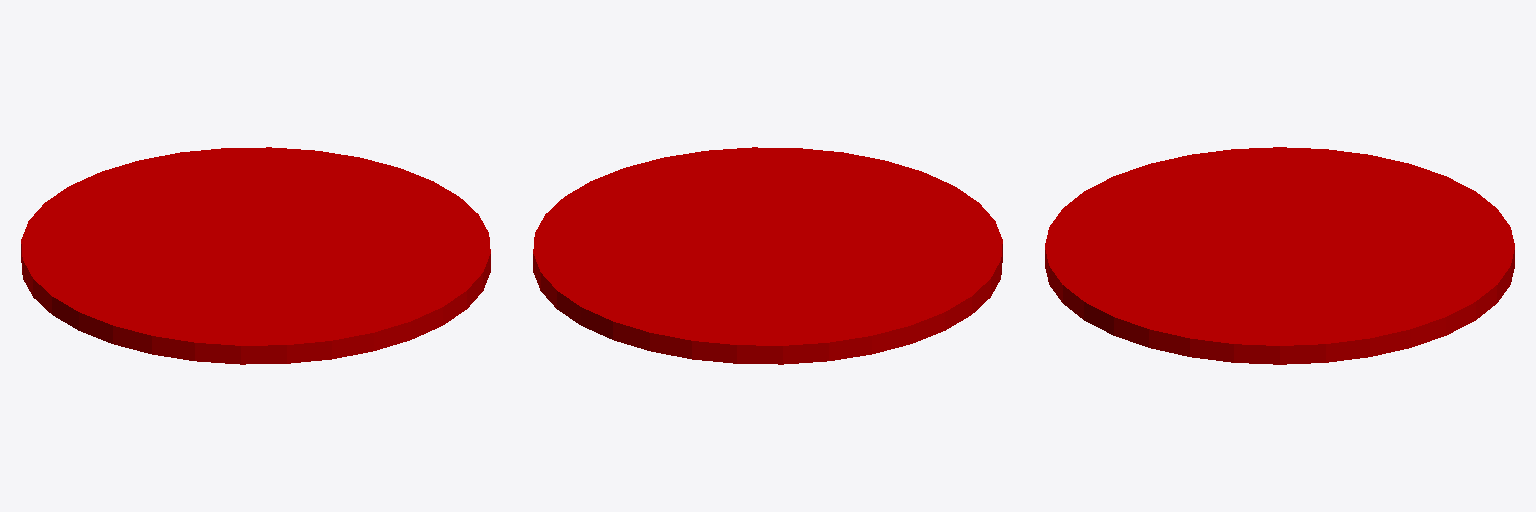
Rendered from target.obj.
3 renders of one model, left to right at view 1: azimuth 30°, elevation 25°; view 2: azimuth 150°, elevation 25°; view 3: azimuth 270°, elevation 25°, orthographic.
Parts seen in each view (by area): view 1: Cylinder; view 2: Cylinder; view 3: Cylinder.
Boxes of the visible parts, box(x1,y1,x2,y2) form: Cylinder: box(21, 147, 490, 364); Cylinder: box(533, 147, 1002, 364); Cylinder: box(1045, 147, 1514, 364).
Bounding box in the file's own units: 2 × 0.0877 × 2.